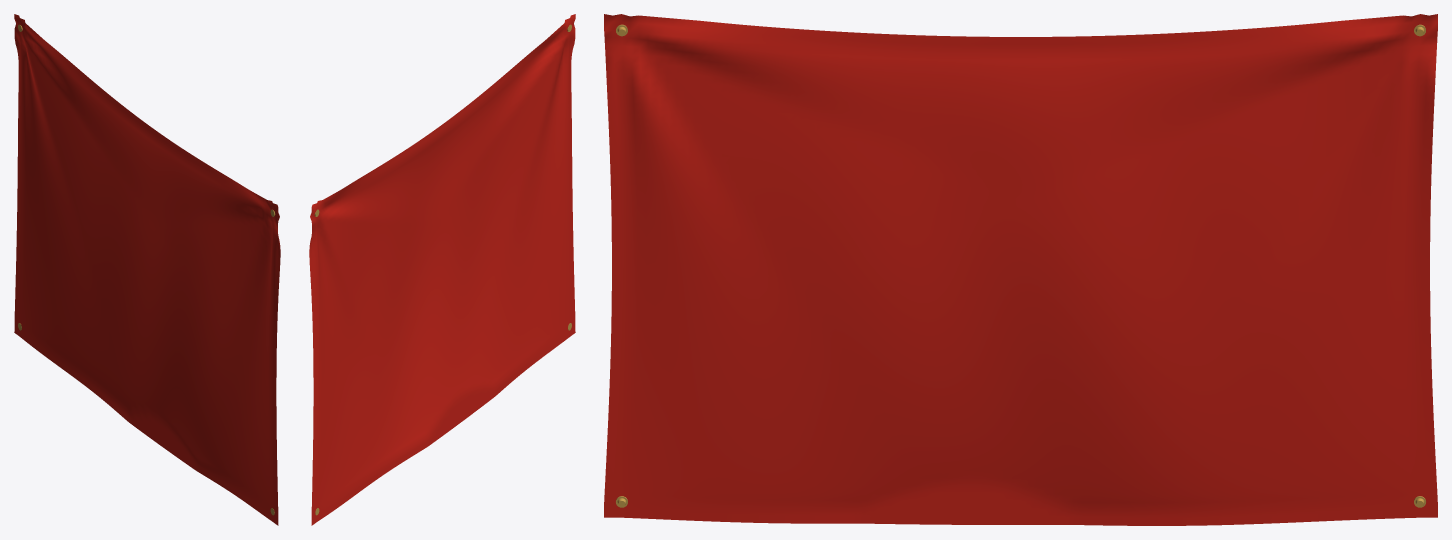
File: drapeau.glb
The picture shows the model from 3 angles, left to right: view 1: azimuth 30°, elevation 25°; view 2: azimuth 150°, elevation 25°; view 3: azimuth 270°, elevation 25°; orthographic projection. The views are drawn at different scales.
Parts seen in each view (by area): view 1: imprime-drapeau; view 2: imprime-drapeau; view 3: imprime-drapeau.
Part boxes in pixels (x1=…): imprime-drapeau: x1=14, y1=14, x2=280, y2=525; imprime-drapeau: x1=309, y1=14, x2=575, y2=525; imprime-drapeau: x1=604, y1=14, x2=1437, y2=525.
Bounding box in the file's own units: 0.016 × 0.508 × 0.75.
